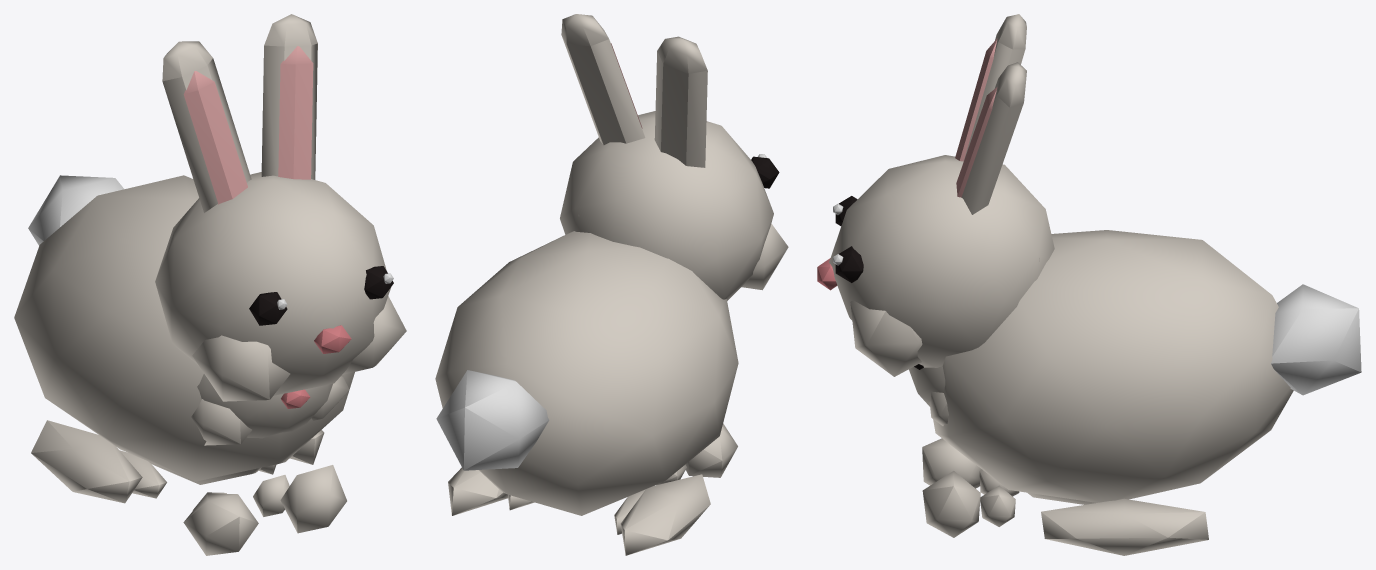
File: rabbit.glb
3 renders of one model, left to right at view 1: azimuth 30°, elevation 25°; view 2: azimuth 150°, elevation 25°; view 3: azimuth 270°, elevation 25°, orthographic. The views are drawn at different scales.
Visible parts, largest first — view 1: animal-rabbit, animal-rabbit-baby; view 2: animal-rabbit, animal-rabbit-baby; view 3: animal-rabbit, animal-rabbit-baby.
Part boxes in pixels (x1=…): animal-rabbit: x1=14, y1=14, x2=406, y2=555; animal-rabbit-baby: x1=120, y1=374, x2=349, y2=516; animal-rabbit: x1=435, y1=14, x2=788, y2=555; animal-rabbit-baby: x1=508, y1=214, x2=686, y2=534; animal-rabbit: x1=817, y1=14, x2=1361, y2=555; animal-rabbit-baby: x1=909, y1=258, x2=1095, y2=526.
Size of the model in its own units: 0.3527 by 0.6139 by 0.6391.
